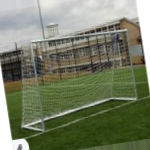goals: (20, 29, 139, 132)
